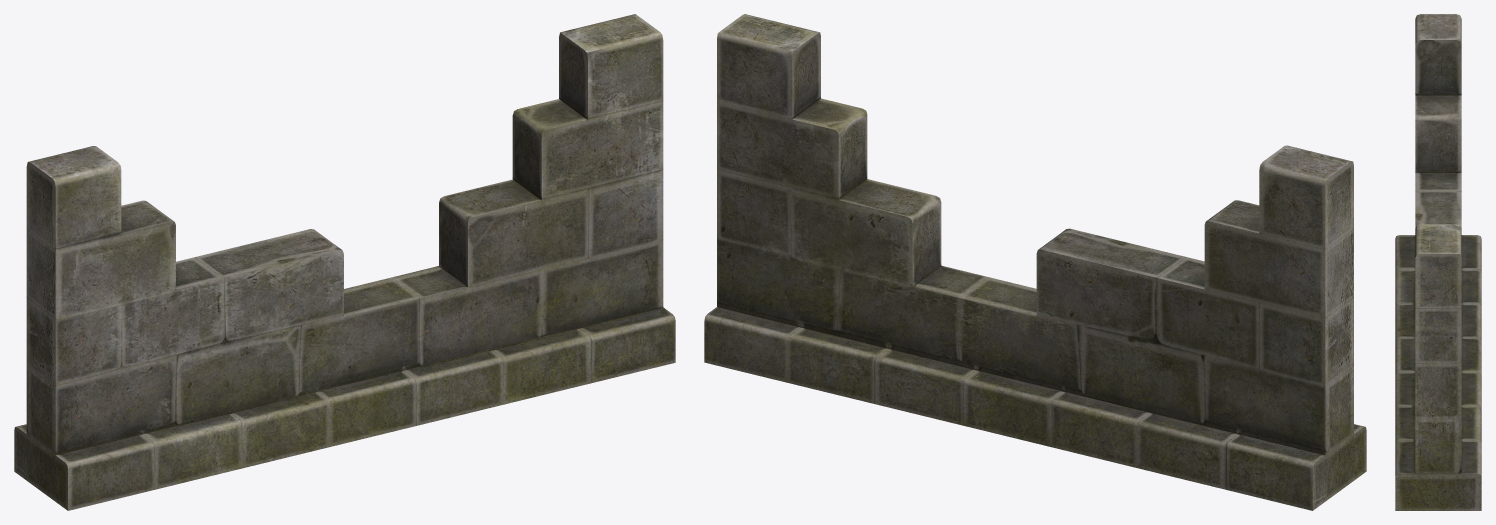
Rendered from broken-wall.glb.
3 views of the same model, side by side, from view 1: azimuth 30°, elevation 25°; view 2: azimuth 150°, elevation 25°; view 3: azimuth 270°, elevation 25° (orthographic). The views are drawn at different scales.
Parts seen in each view (by area): view 1: broken_wall; view 2: broken_wall; view 3: broken_wall.
Part boxes in pixels (x1,y1,x2,y2): broken_wall: [14, 14, 675, 510]; broken_wall: [704, 14, 1366, 510]; broken_wall: [1395, 14, 1481, 510].
Bounding box in the file's own units: 4.93 × 2.49 × 0.7555.
Materials: 1 (1 with a texture image).
